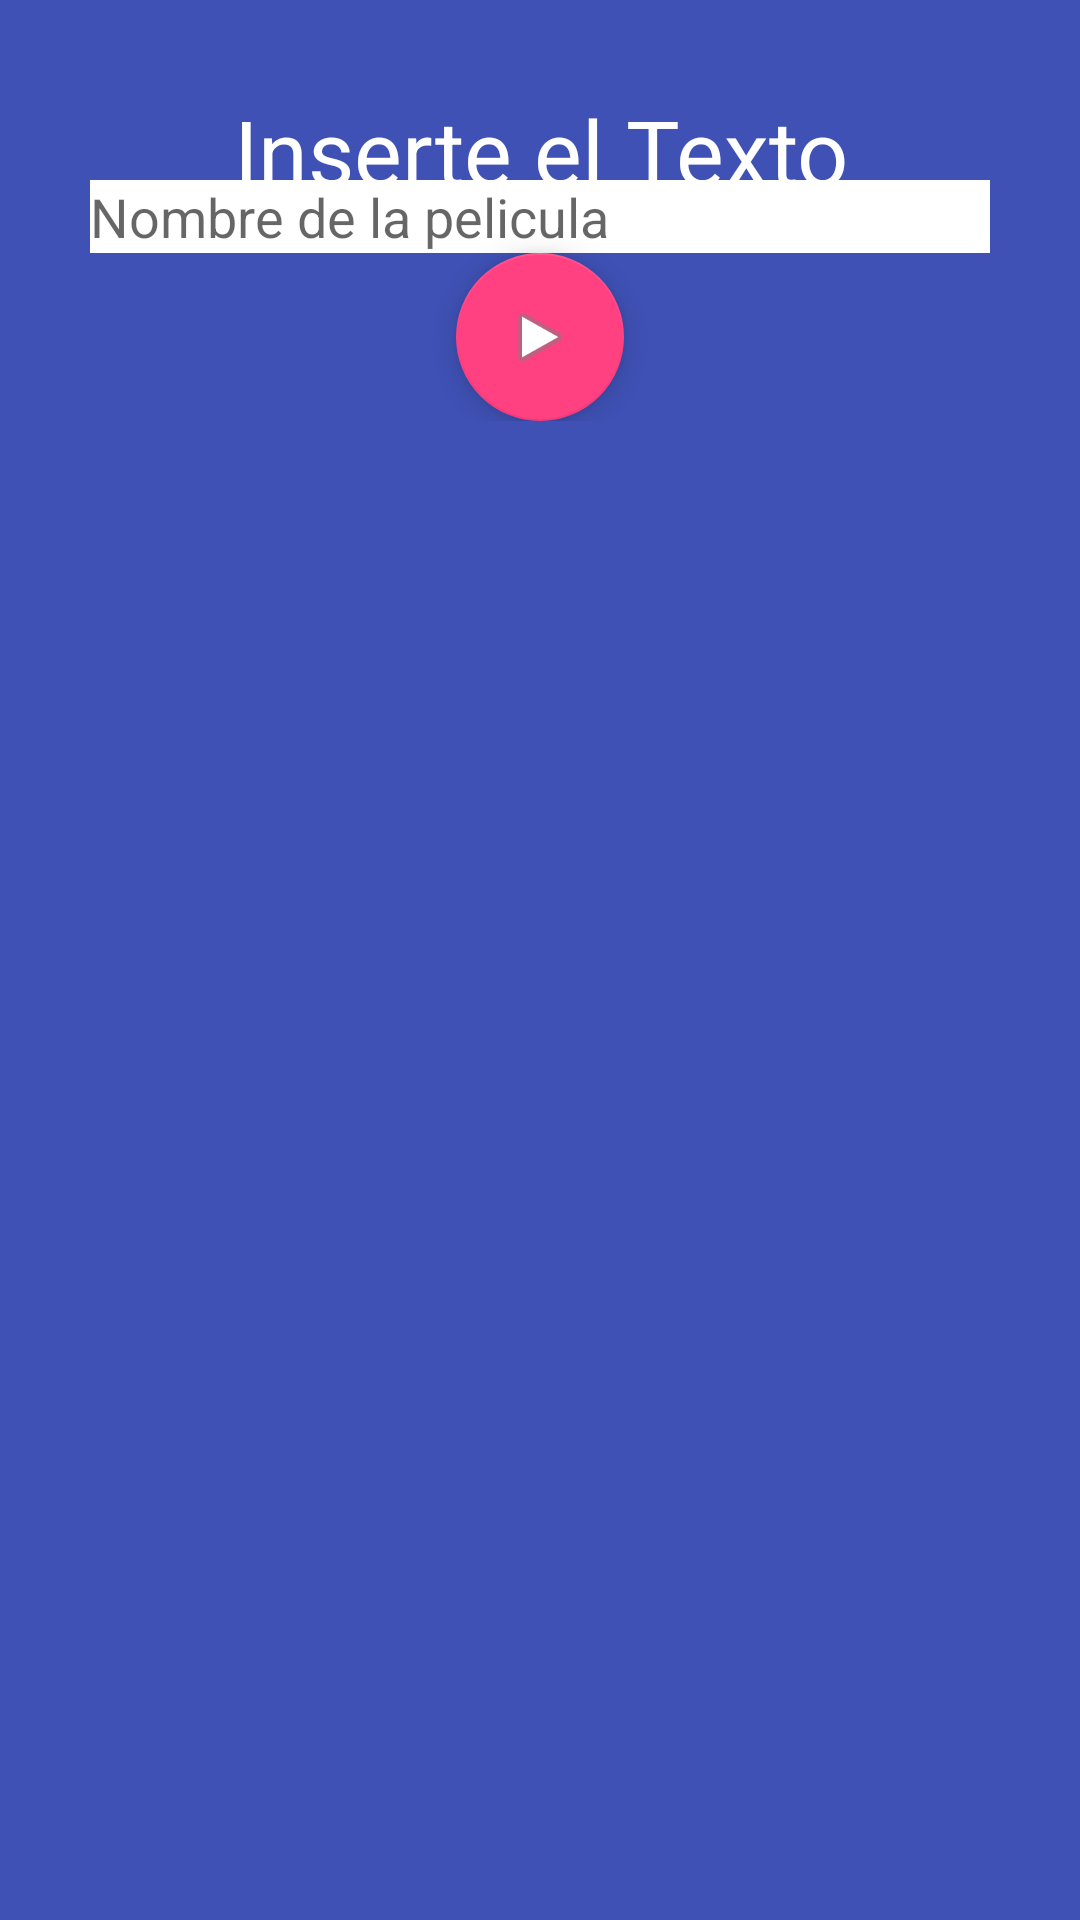

Point at icon controls on the screen. Image size 1080 x 1920, points as [x,y].
play: [540,337]
